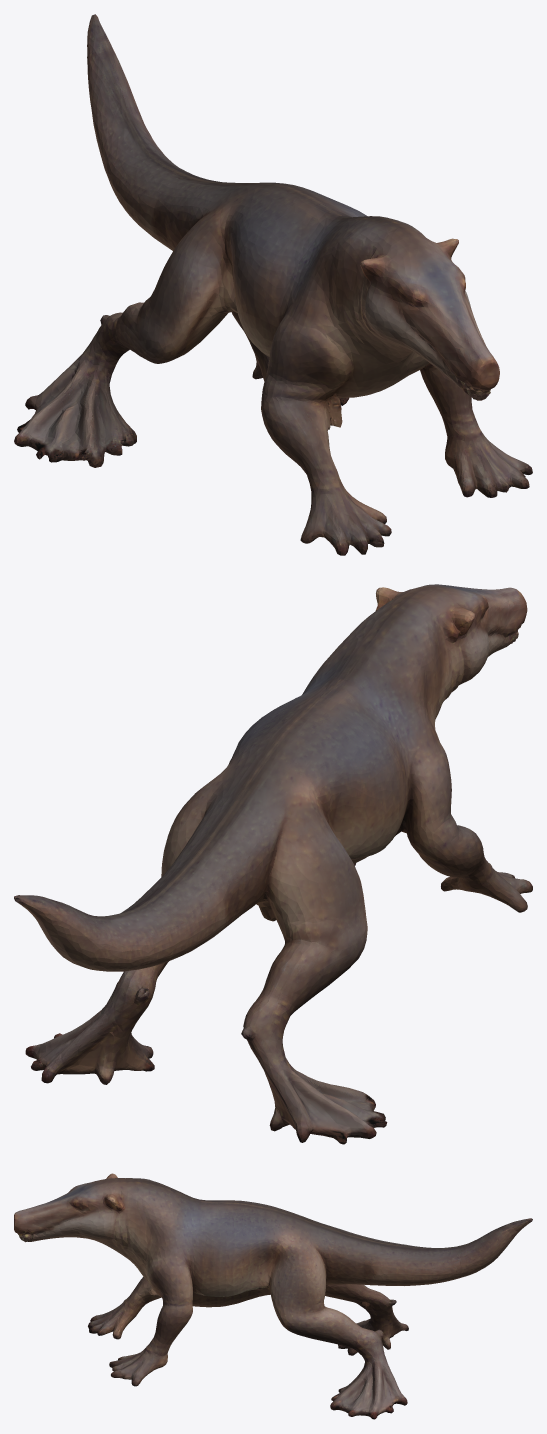
The picture shows the model from 3 angles, top to bottom: view 1: azimuth 30°, elevation 25°; view 2: azimuth 150°, elevation 25°; view 3: azimuth 270°, elevation 25°; orthographic projection. The views are drawn at different scales.
Visible parts, largest first — view 1: world; view 2: world; view 3: world.
Boxes of the visible parts, left/top/right/bottom form: world: left=14, top=14, right=532, bottom=555; world: left=14, top=584, right=532, bottom=1144; world: left=14, top=1173, right=532, bottom=1419.
Bounding box in the file's own units: 0.443 × 0.42 × 1.
1 material, 1 textured.
